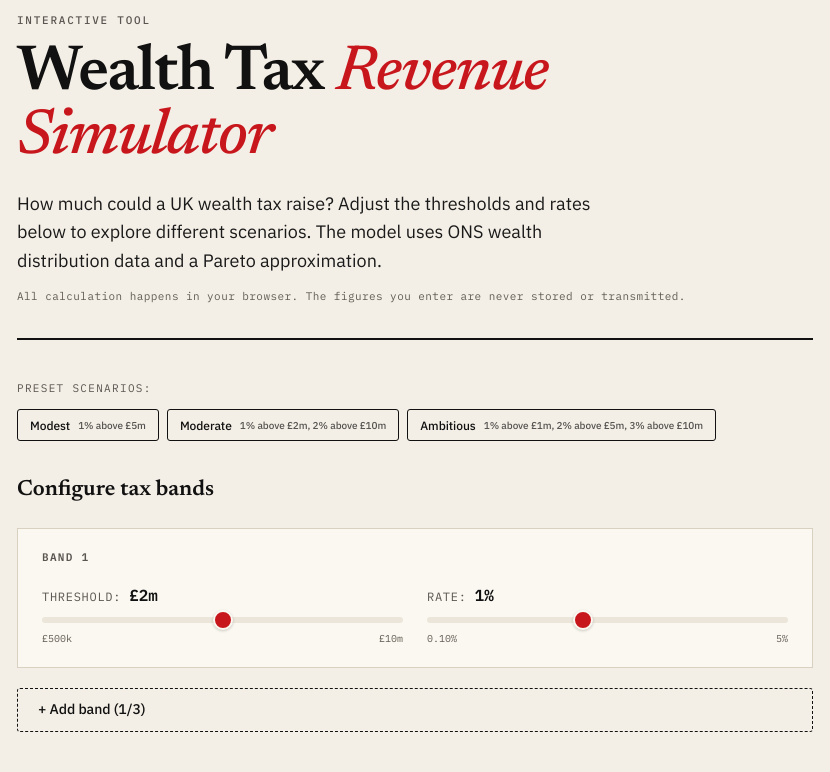
WealthTaxSimulator › remove band button removes a band
# Add a band first
Click the button with class "sim__add-band" at (92, 709), box [17,688,813,732]
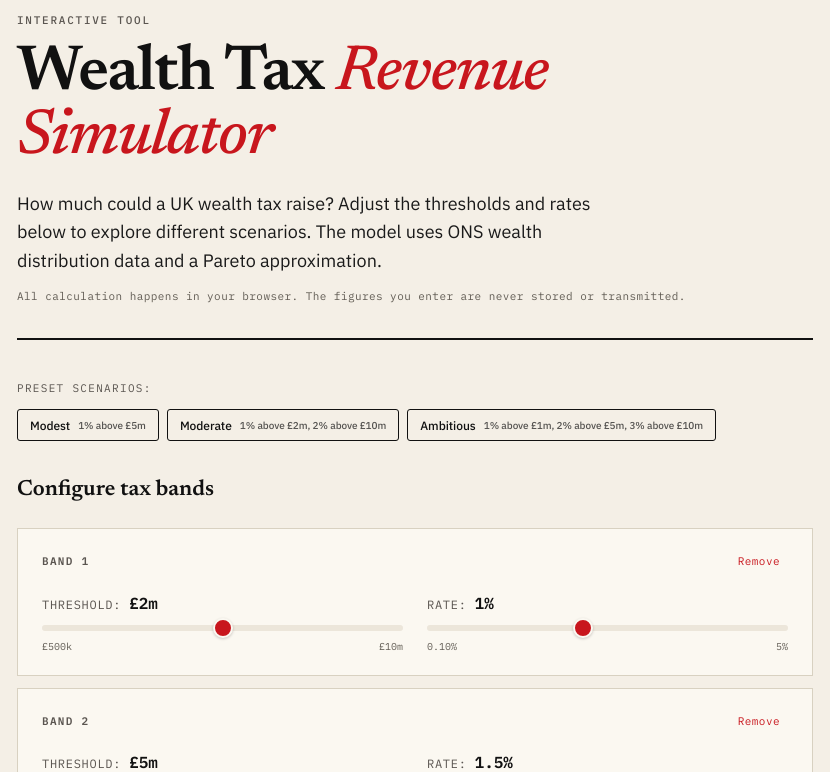
Check: the button with aria-label "Remove band 2" is shown
Click the button with aria-label "Remove band 2" at (759, 721), box [730,708,788,734]
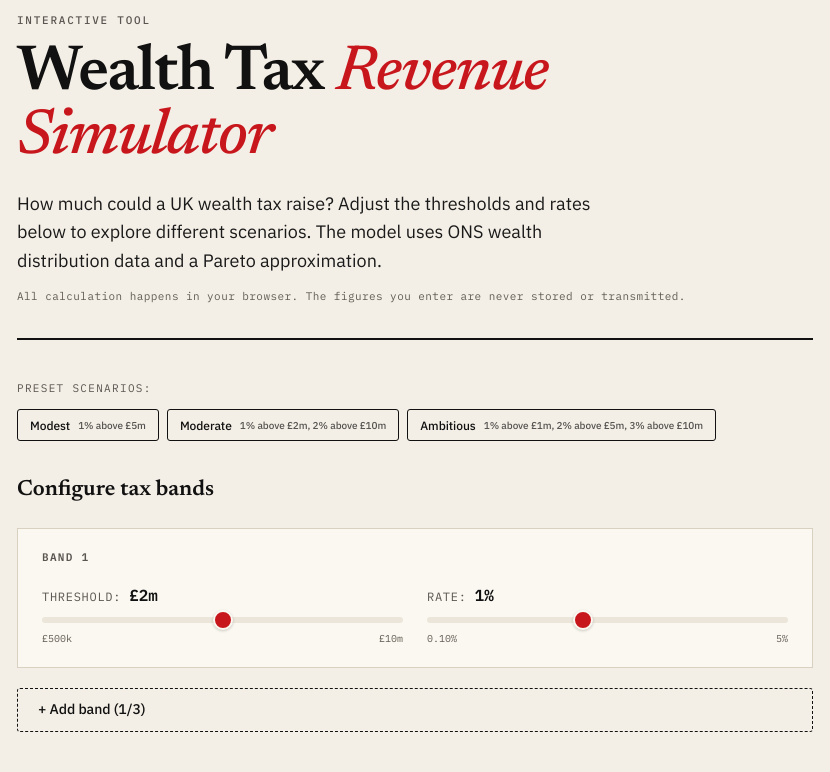
Check: the number of elements with class "sim__band" is 1, box [17,528,813,668]
